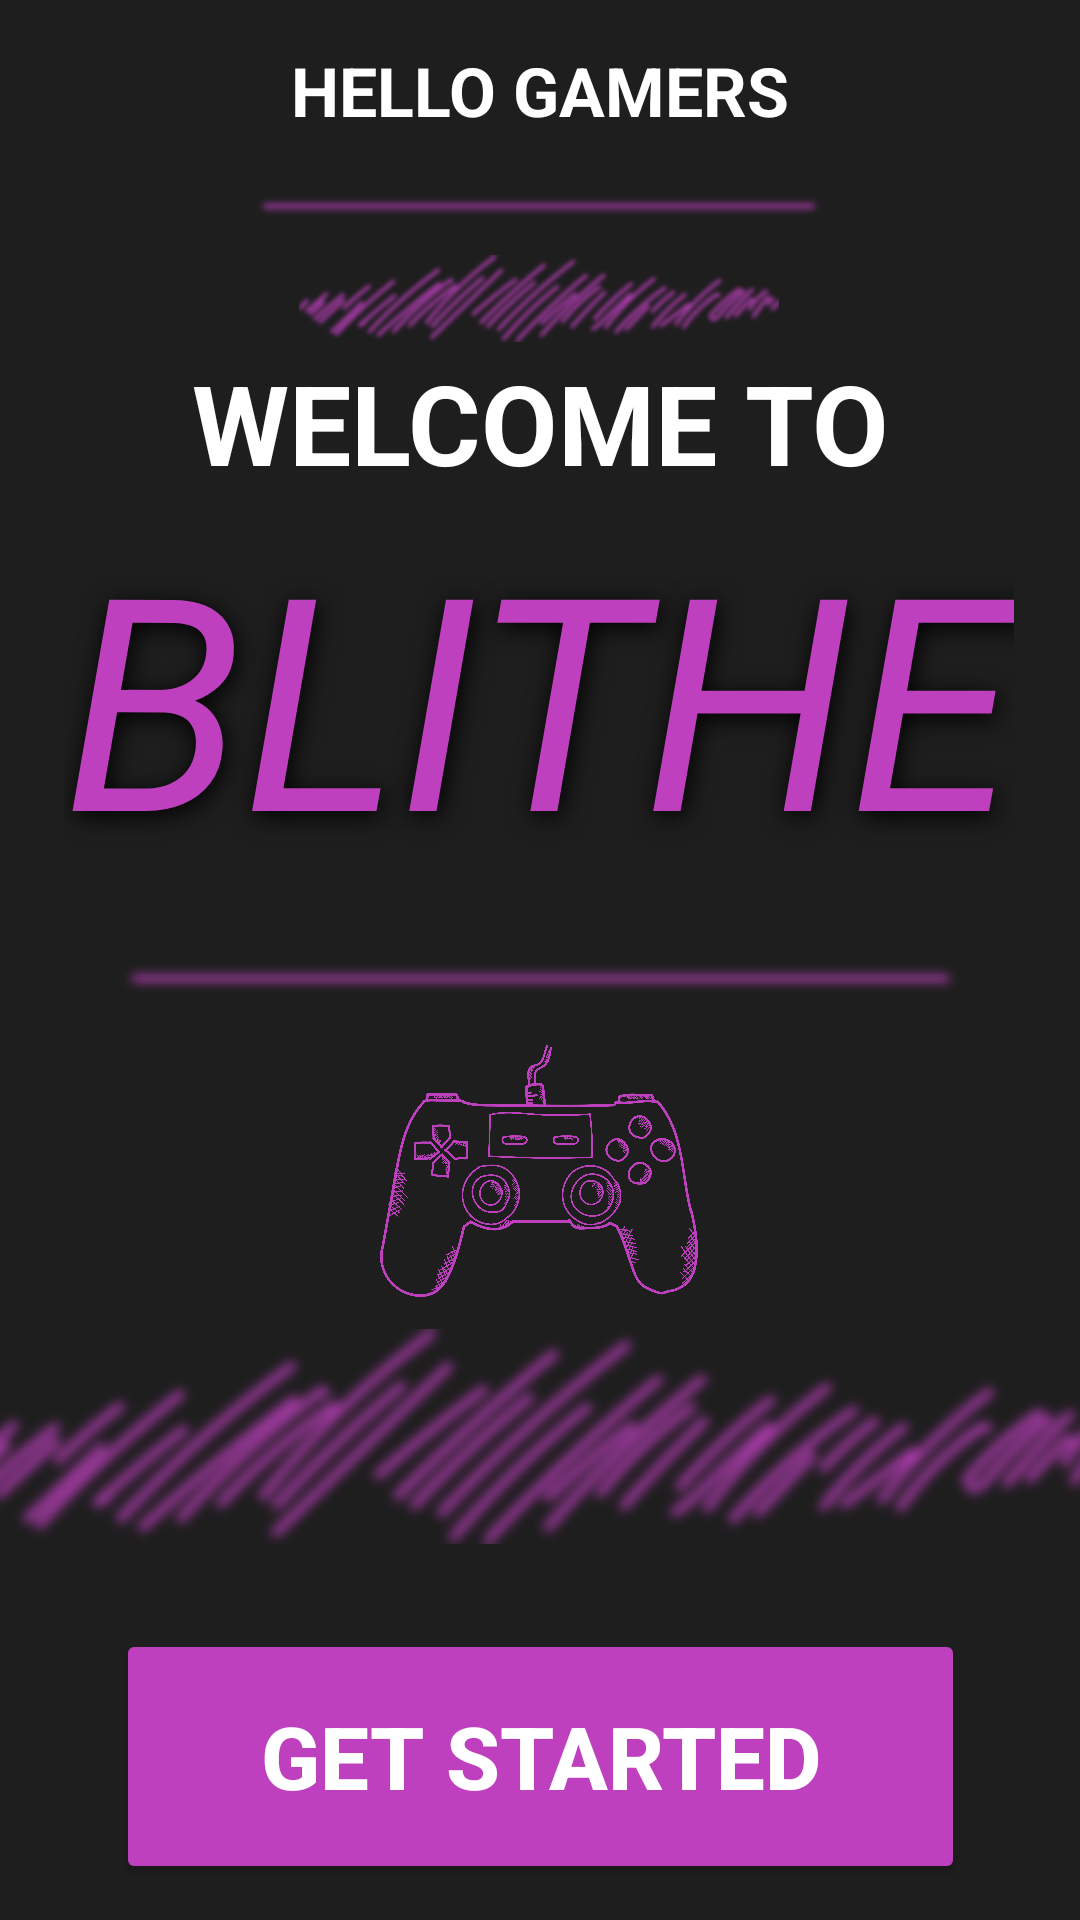

Where to tap for icons on this 1080px×1920px app screen, as (x=x, y=y):
controller: (x=539, y=1171)
